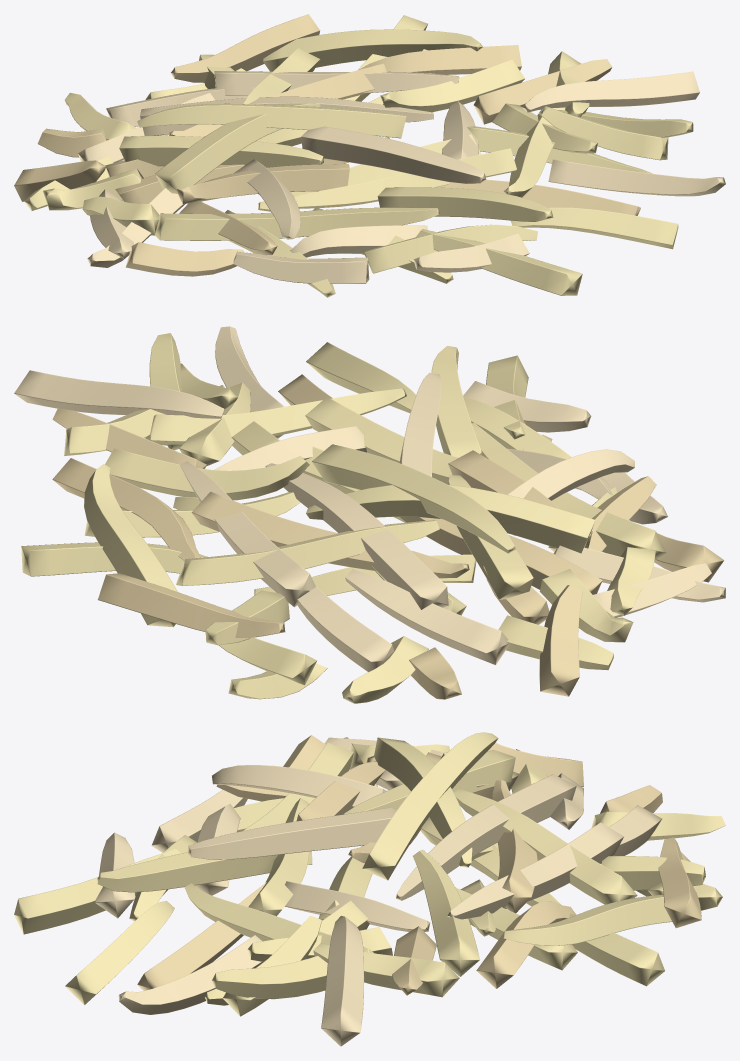
File: shredded_cheese_melted.glb
3 renders of one model, top to bottom at view 1: azimuth 30°, elevation 25°; view 2: azimuth 150°, elevation 25°; view 3: azimuth 270°, elevation 25°, orthographic. The views are drawn at different scales.
Parts seen in each view (by area): view 1: LODGroup_29, LODGroup_31, LODGroup_57, LODGroup_107, LODGroup_99, LODGroup_65, LODGroup_7, LODGroup_87, LODGroup_15, LODGroup_83, LODGroup_35, LODGroup_55 (+41 smaller); view 2: LODGroup_29, LODGroup_7, LODGroup_41, LODGroup_99, LODGroup_51, LODGroup_9, LODGroup_67, LODGroup_107, LODGroup_113, LODGroup_79, LODGroup_103, LODGroup_39 (+42 smaller); view 3: LODGroup_57, LODGroup_29, LODGroup_41, LODGroup_103, LODGroup_65, LODGroup_99, LODGroup_51, LODGroup_107, LODGroup_67, LODGroup_87, LODGroup_95, LODGroup_83 (+39 smaller).
Part boxes in pixels (left/top/right/bottom): LODGroup_29: left=137, top=103, right=406, bottom=138; LODGroup_31: left=155, top=207, right=439, bottom=240; LODGroup_57: left=301, top=126, right=486, bottom=183; LODGroup_107: left=263, top=29, right=482, bottom=71; LODGroup_99: left=522, top=71, right=699, bottom=112; LODGroup_65: left=377, top=187, right=553, bottom=221; LODGroup_7: left=155, top=103, right=320, bottom=193; LODGroup_87: left=548, top=159, right=725, bottom=196; LODGroup_15: left=119, top=135, right=323, bottom=167; LODGroup_83: left=511, top=207, right=678, bottom=249; LODGroup_35: left=176, top=164, right=349, bottom=203; LODGroup_55: left=294, top=148, right=516, bottom=208; LODGroup_29: left=312, top=444, right=515, bottom=553; LODGroup_7: left=306, top=484, right=595, bottom=553; LODGroup_41: left=265, top=463, right=448, bottom=609; LODGroup_99: left=14, top=370, right=224, bottom=418; LODGroup_51: left=176, top=520, right=439, bottom=585; LODGroup_9: left=345, top=569, right=508, bottom=665; LODGroup_67: left=105, top=448, right=309, bottom=500; LODGroup_107: left=84, top=464, right=177, bottom=627; LODGroup_113: left=98, top=573, right=285, bottom=637; LODGroup_79: left=144, top=388, right=406, bottom=445; LODGroup_103: left=180, top=461, right=315, bottom=607; LODGroup_39: left=191, top=491, right=469, bottom=578; LODGroup_57: left=188, top=807, right=396, bottom=859; LODGroup_29: left=362, top=732, right=498, bottom=880; LODGroup_41: left=396, top=774, right=576, bottom=900; LODGroup_103: left=447, top=822, right=623, bottom=919; LODGroup_65: left=97, top=852, right=277, bottom=892; LODGroup_99: left=321, top=915, right=364, bottom=1046; LODGroup_51: left=454, top=788, right=637, bottom=904; LODGroup_107: left=504, top=894, right=672, bottom=945; LODGroup_67: left=413, top=849, right=479, bottom=976; LODGroup_87: left=118, top=935, right=263, bottom=1014; LODGroup_95: left=212, top=955, right=327, bottom=999; LODGroup_83: left=65, top=901, right=174, bottom=1004.
Bounding box in the file's own units: 0.2459 × 0.0439 × 0.2282.
